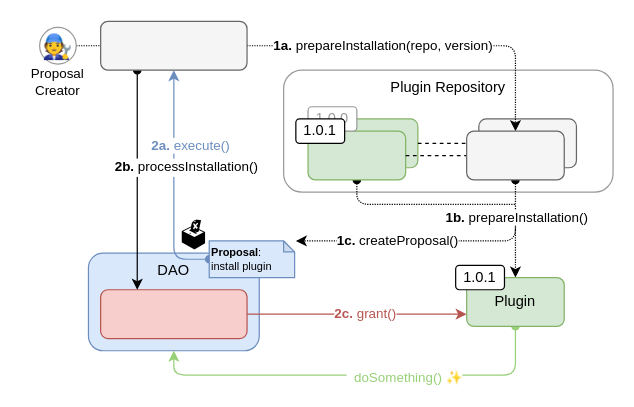
This 634x407 diagram has some shape labels left out. The shapes that lost their labels are listed below. From the top down, each one's box as (x1, y1, x2, y2) in pixels, then its label:
(99, 20, 247, 70): Plugin Setup Processor
(307, 130, 406, 180): Plugin Logic
(465, 130, 564, 180): Plugin Setup
(99, 289, 247, 339): Permission Manager
